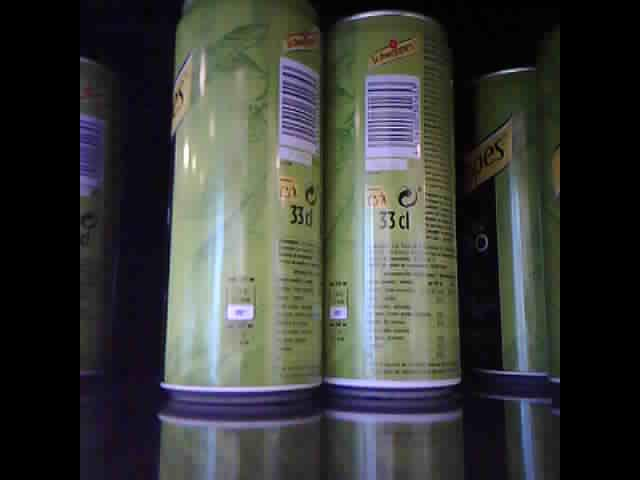schweppes: (152, 2, 323, 407), (321, 8, 459, 396), (468, 58, 556, 381), (80, 14, 119, 384)
